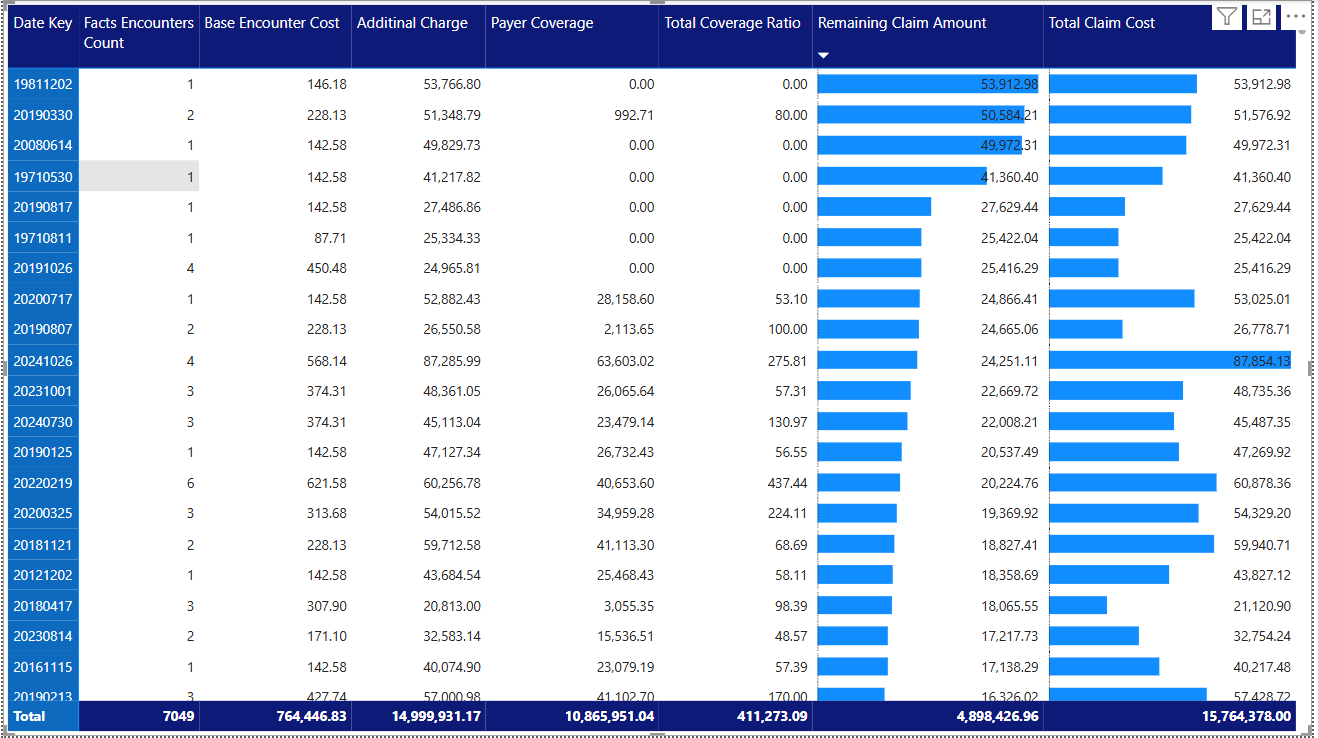

This screenshot's page, from the dashboard's own definition file:
{"tool":"powerbi","page":{"name":"Report 1","canvas":[1280,720],"ordinal":0},"visuals":[{"type":"pivotTable","fields":{"Values":["Facts Encounters (Measures).Facts Encounters Count","Facts Encounters (Measures).Base Encounter Cost","Facts Encounters (Measures).Additinal Charge","Facts Encounters (Measures).Payer Coverage","Facts Encounters (Measures).Total Coverage Ratio","Facts Encounters (Measures).Remaining Claim Amount","Facts Encounters (Measures).Total Claim Cost"],"Rows":["Start.Date Key"]},"box":[0,0,1280.3,720.2],"z":0}]}

Visuals, with their boxes in screenshot pixels (x1, y1, x2, y2), scaled from the page's 1280x720 canvas onto the 1318x738 screenshot:
pivotTable - Facts Encounters (Measures).Facts Encounters Count x Facts Encounters (Measures).Base Encounter Cost: 0/0/1317/737
